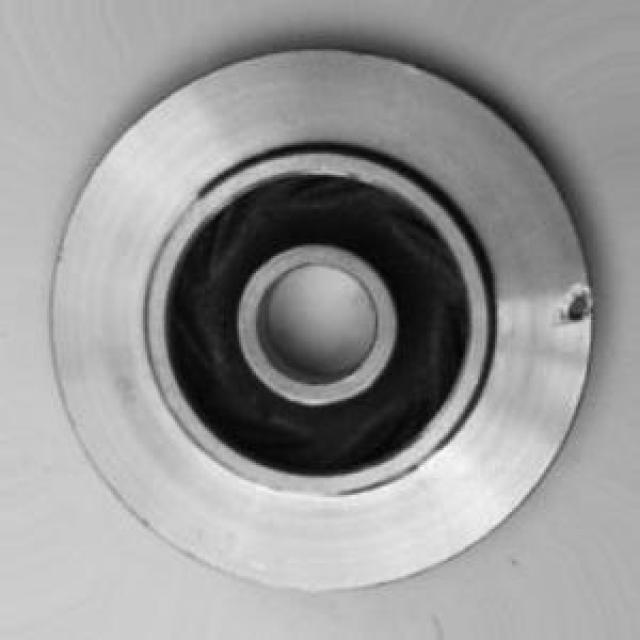Defect: (554, 273, 597, 343)
